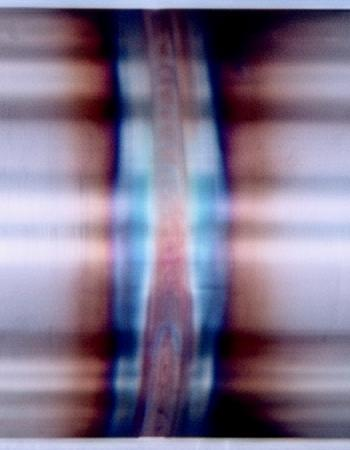soldas: (51, 2, 297, 446)
